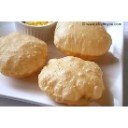poori: (38, 54, 106, 102), (55, 21, 112, 55), (1, 34, 46, 77)
